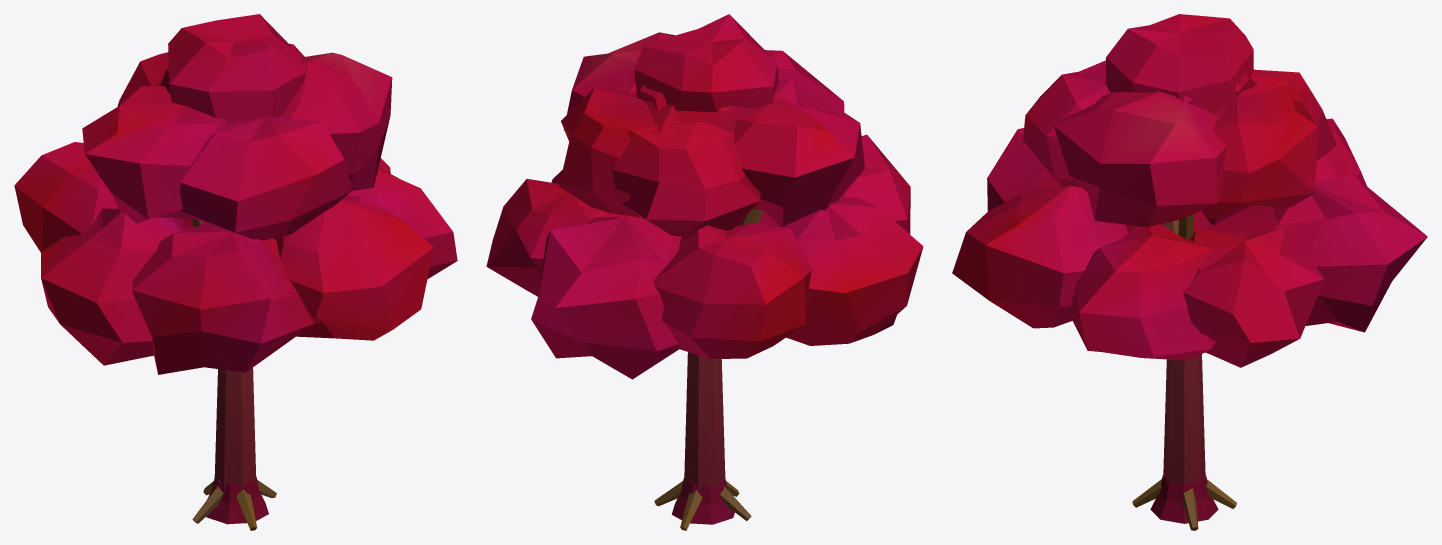
The model's file is Tree_Maple_Red_01.glb.
The picture shows the model from 3 angles, left to right: view 1: azimuth 30°, elevation 25°; view 2: azimuth 150°, elevation 25°; view 3: azimuth 270°, elevation 25°; orthographic projection.
Parts seen in each view (by area): view 1: Tree_Maple_Red_01; view 2: Tree_Maple_Red_01; view 3: Tree_Maple_Red_01.
Boxes of the visible parts, x1,y1,x2,y2 form: Tree_Maple_Red_01: [14, 14, 457, 530]; Tree_Maple_Red_01: [486, 14, 923, 530]; Tree_Maple_Red_01: [952, 14, 1427, 530].
Bounding box in the file's own units: 6.03 × 7.28 × 6.49.
